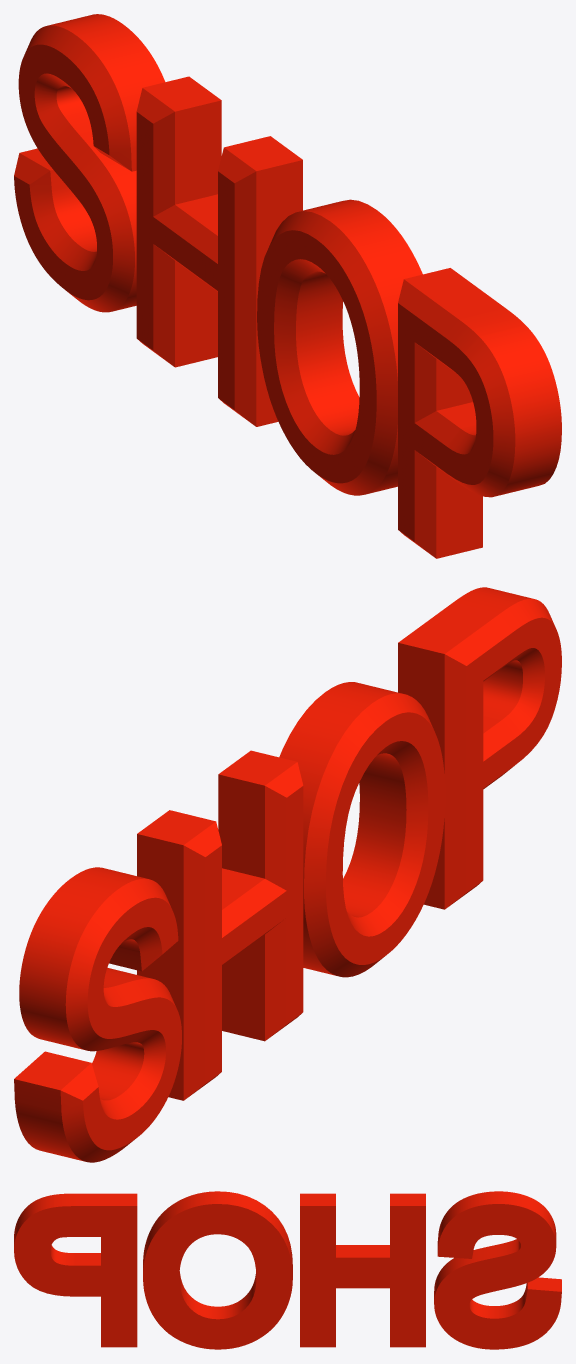
File: shop_brand.FBX
3 renders of one model, top to bottom at view 1: azimuth 30°, elevation 25°; view 2: azimuth 150°, elevation 25°; view 3: azimuth 270°, elevation 25°, orthographic. The views are drawn at different scales.
Visible parts, largest first — view 1: TextPlus007; view 2: TextPlus007; view 3: TextPlus007.
Part boxes in pixels (x1,y1,x2,y2): TextPlus007: [14, 14, 561, 558]; TextPlus007: [14, 587, 561, 1162]; TextPlus007: [14, 1191, 561, 1349].
Bounding box in the file's own units: 12.25 × 50.99 × 174.
